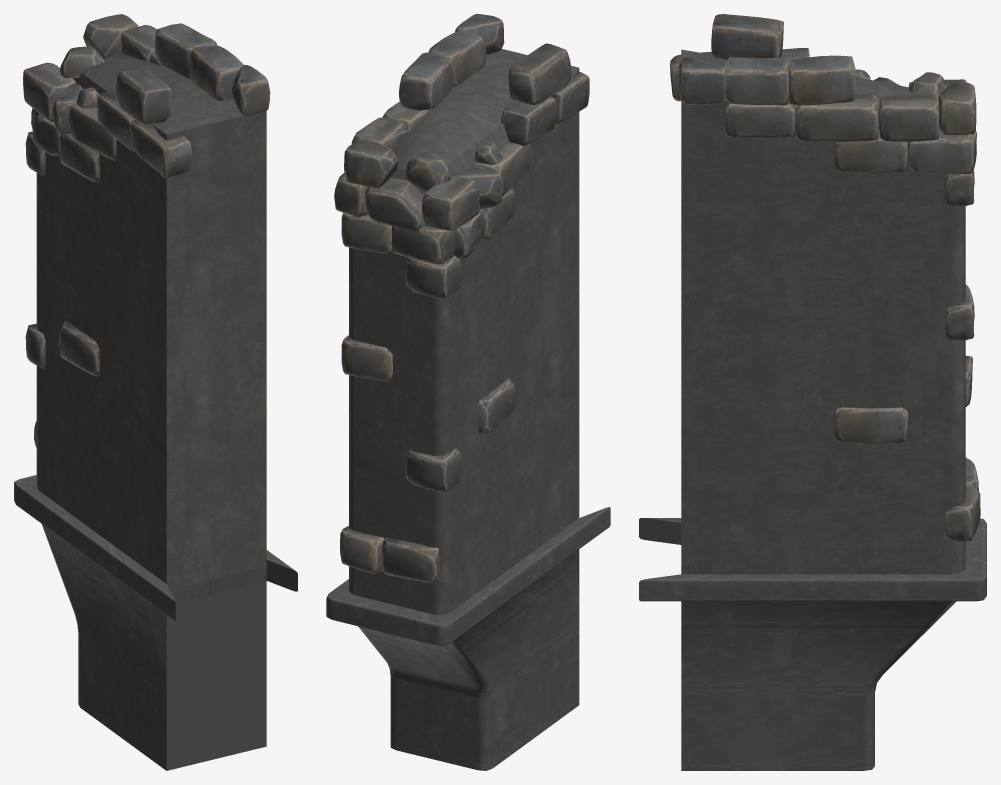
The model's file is pillat01.fbx.
3 views of the same model, side by side, from view 1: azimuth 30°, elevation 25°; view 2: azimuth 150°, elevation 25°; view 3: azimuth 270°, elevation 25° (orthographic). The views are drawn at different scales.
Visible parts, largest first — view 1: Object054, Box009, blocks_020; view 2: Object054, blocks_020, Box009; view 3: Object054, Box009, blocks_020.
Part boxes in pixels (x1,y1,x2,y2): Object054: (36, 53, 266, 589); Box009: (14, 475, 297, 770); blocks_020: (23, 14, 270, 447); Object054: (349, 49, 579, 614); blocks_020: (334, 14, 589, 582); Box009: (326, 507, 610, 770); Object054: (681, 49, 965, 574); Box009: (639, 518, 986, 770); blocks_020: (670, 14, 980, 541).
Bounding box in the file's own units: 219 × 1095 × 491.
